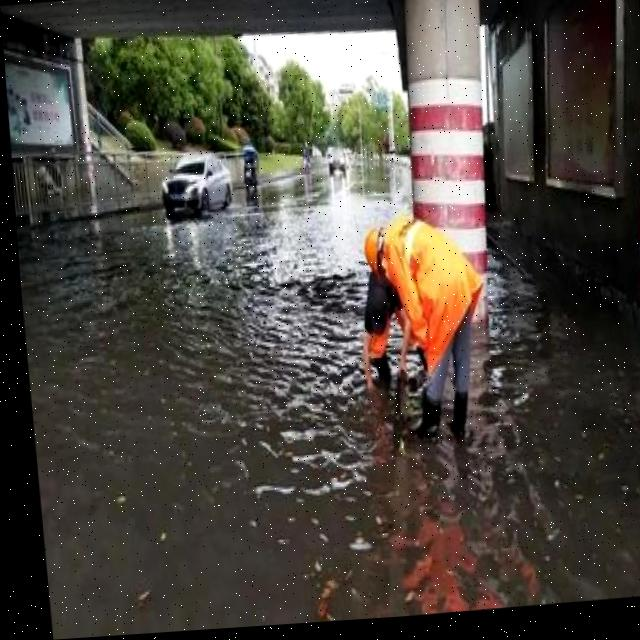rescuer: (357, 196, 503, 448)
